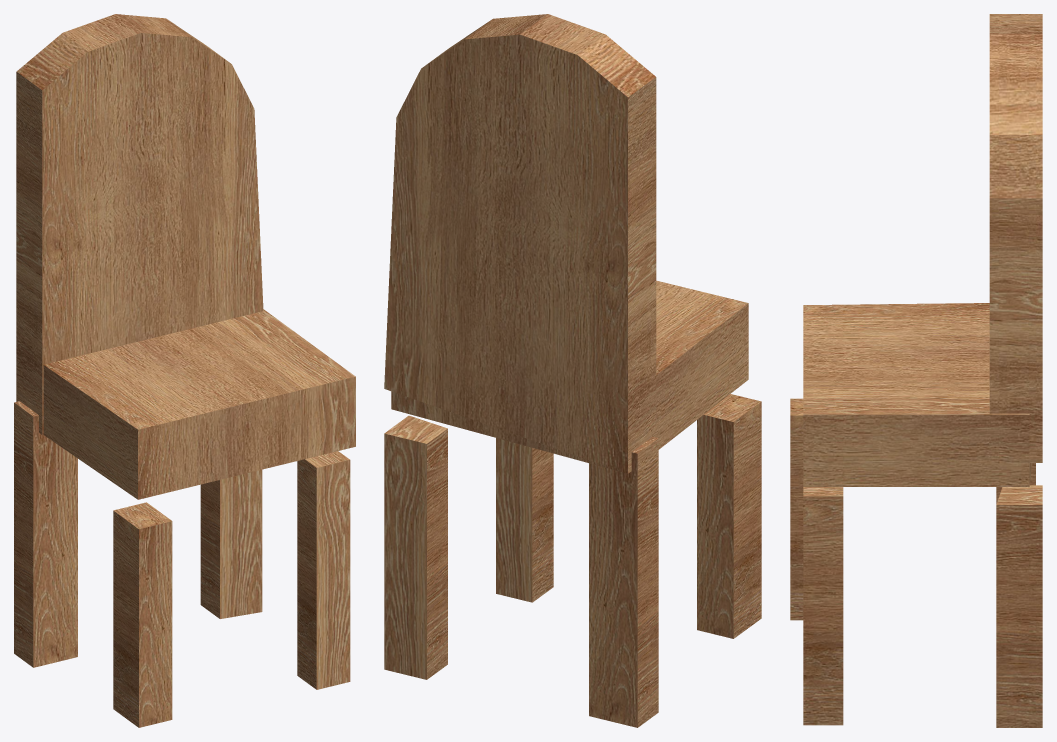
The model's file is 42402_deepcad-end2end.glb.
3 renders of one model, left to right at view 1: azimuth 30°, elevation 25°; view 2: azimuth 150°, elevation 25°; view 3: azimuth 270°, elevation 25°, orthographic. The views are drawn at different scales.
Visible parts, largest first — view 1: test_cmd_42402_pred; view 2: test_cmd_42402_pred; view 3: test_cmd_42402_pred.
Part boxes in pixels (x1,y1,x2,y2): test_cmd_42402_pred: (14, 14, 355, 727); test_cmd_42402_pred: (384, 14, 761, 727); test_cmd_42402_pred: (790, 14, 1042, 727).
Size of the model in its own units: 0.3915 by 1 by 0.3629.
Materials: 1 (1 with a texture image).
